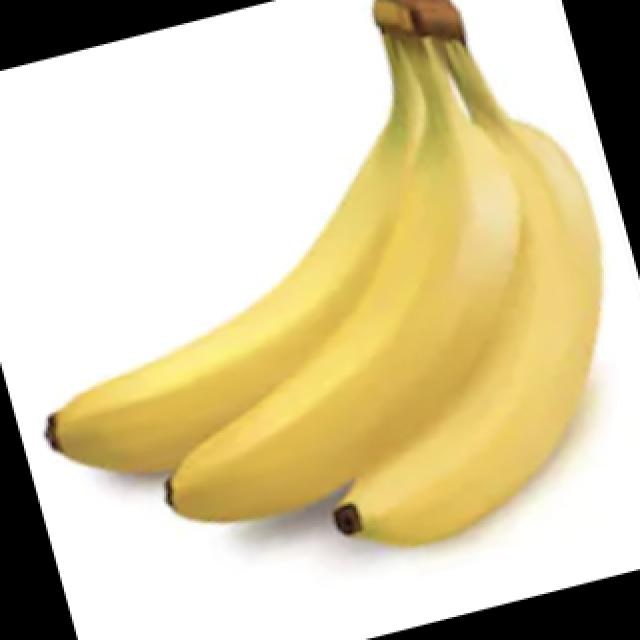banana: (16, 13, 622, 601)
